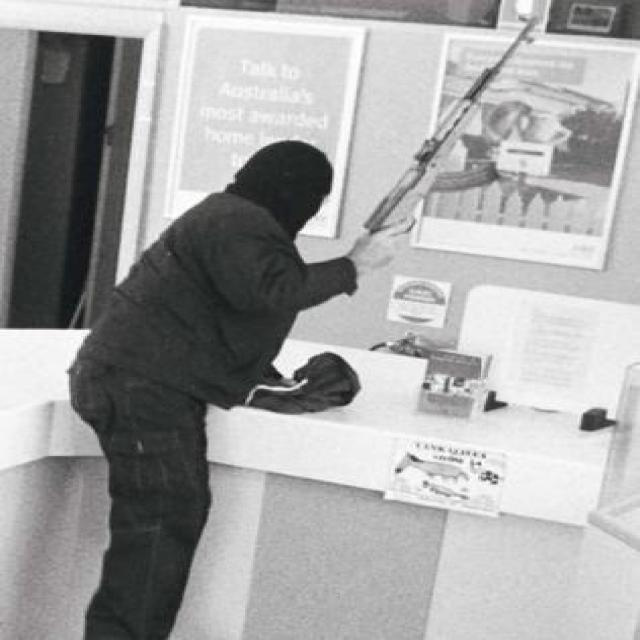gun: (364, 19, 547, 241)
